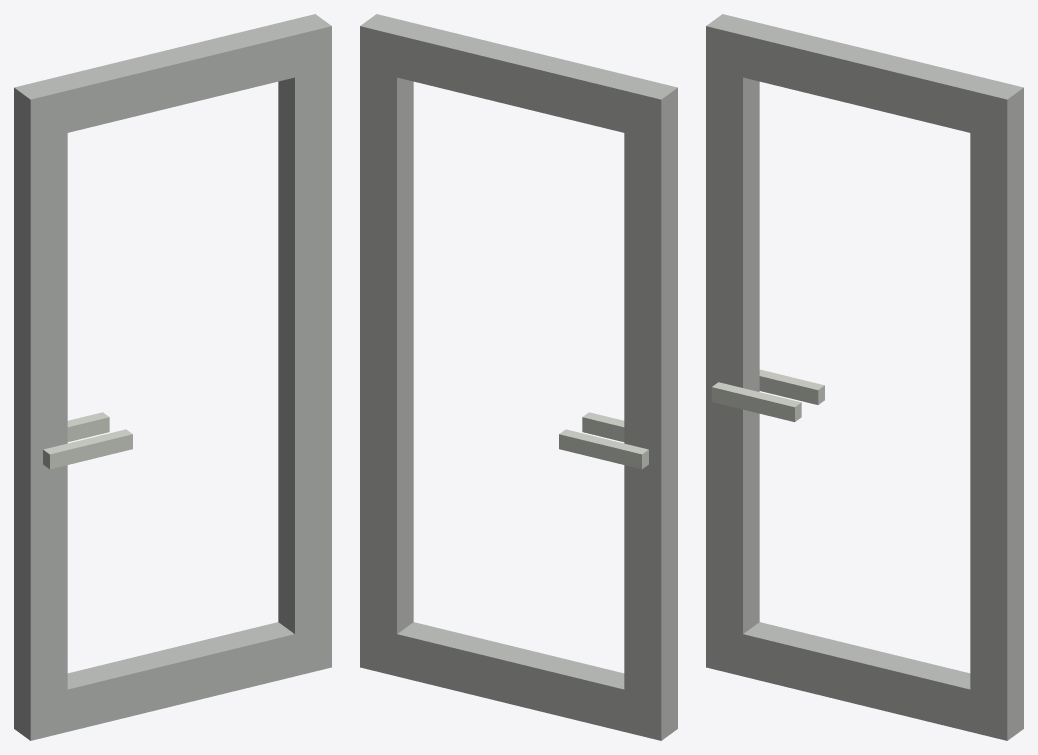
Rendered from door_metal_full.fbx.
3 views of the same model, side by side, from view 1: azimuth 30°, elevation 25°; view 2: azimuth 150°, elevation 25°; view 3: azimuth 330°, elevation 25° (orthographic).
Parts seen in each view (by area): view 1: door_metal_full; view 2: door_metal_full; view 3: door_metal_full.
Part boxes in pixels (x1=…): door_metal_full: x1=14, y1=14, x2=331, y2=740; door_metal_full: x1=360, y1=14, x2=677, y2=740; door_metal_full: x1=706, y1=14, x2=1023, y2=740.
Size of the model in its own units: 2.55 by 5.2 by 0.441.
